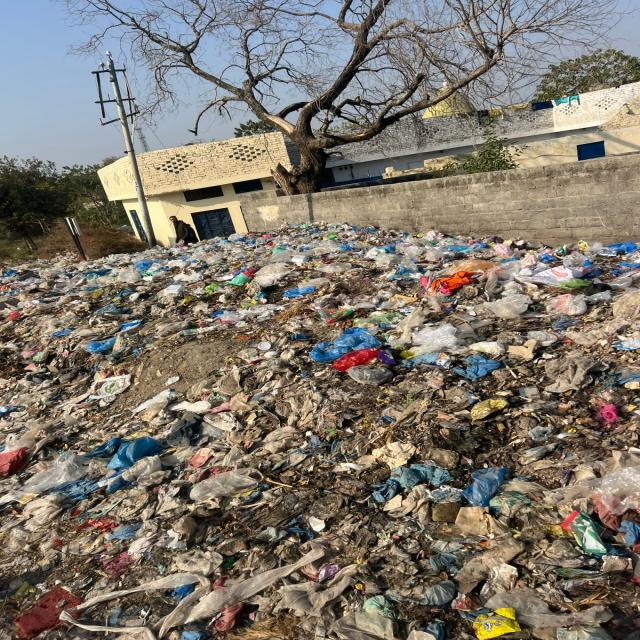garbage: (0, 233, 635, 640)
